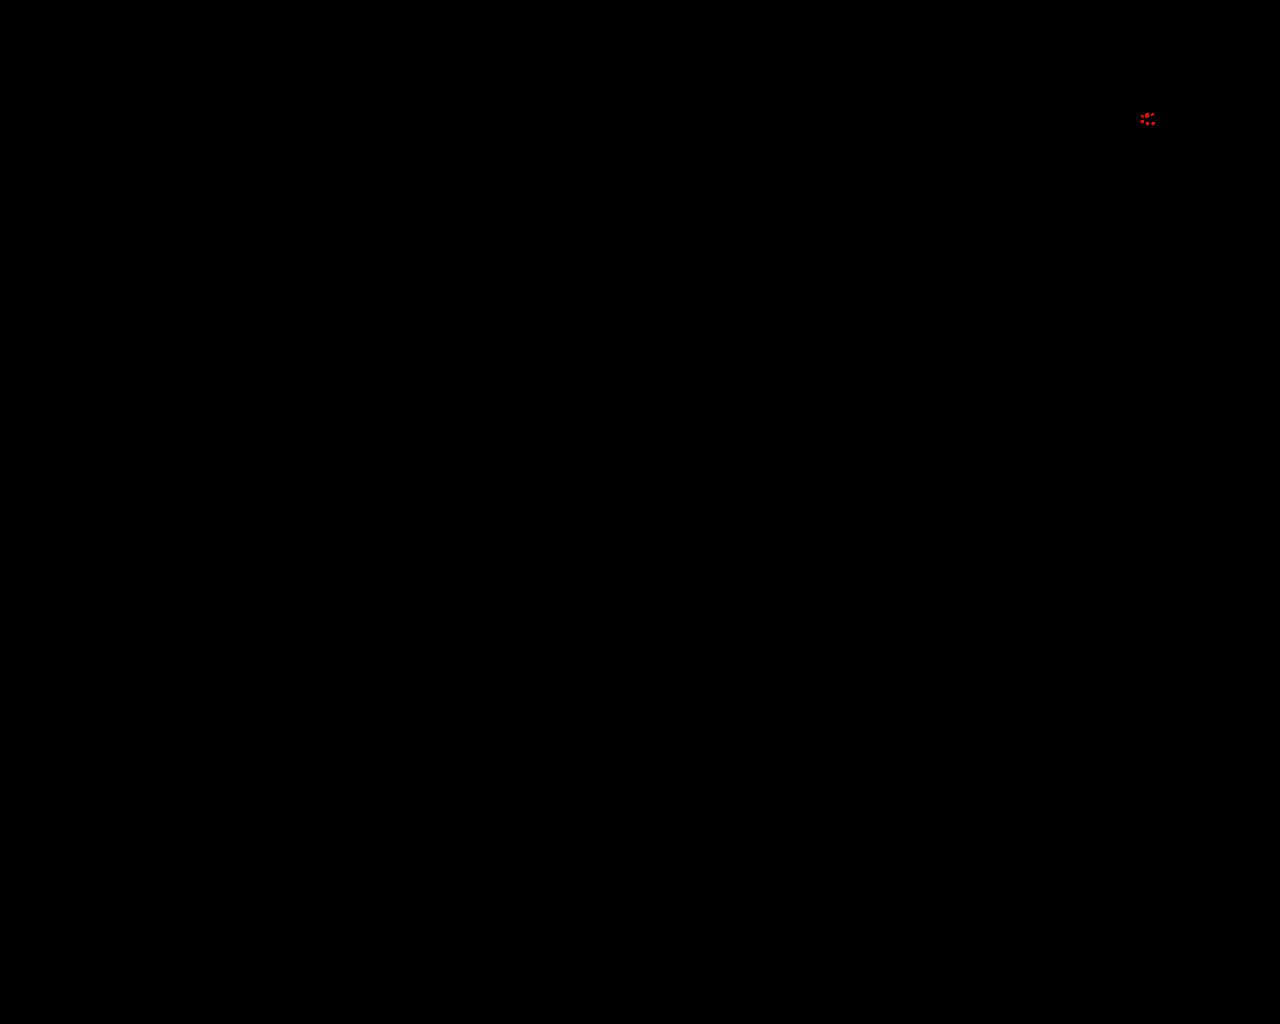Target: (1145, 113, 1149, 118), (1140, 120, 1144, 123), (1141, 115, 1144, 118), (1146, 122, 1149, 125), (1151, 122, 1155, 125), (1151, 113, 1154, 116)
